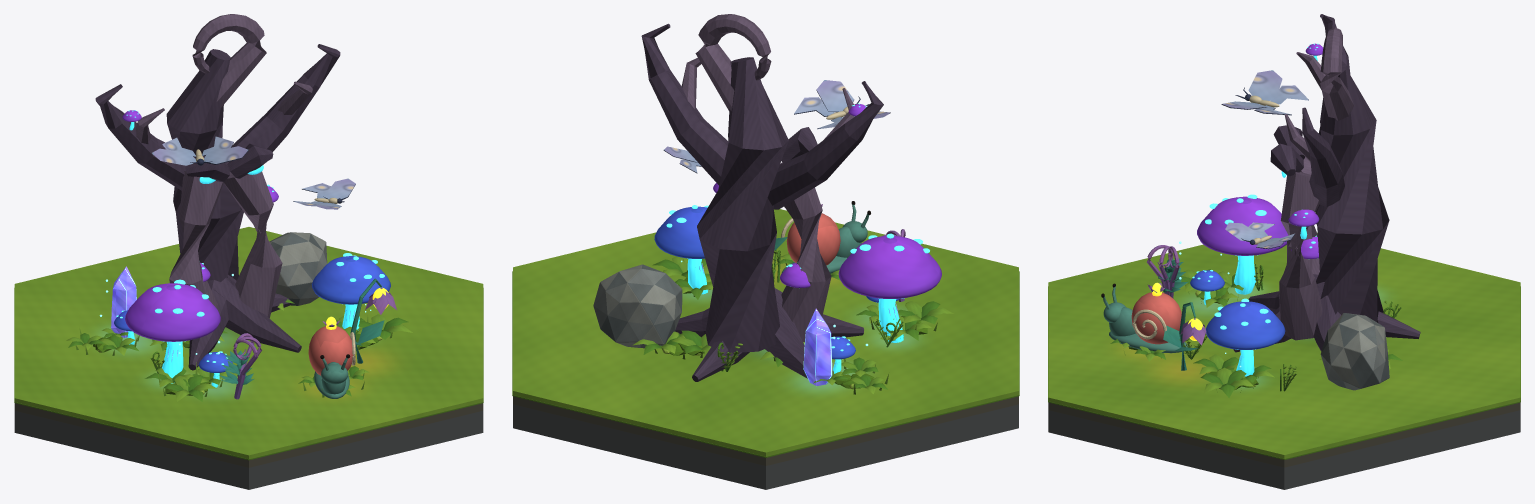
The model's file is hex_hollow_watchers.glb.
3 views of the same model, side by side, from view 1: azimuth 30°, elevation 25°; view 2: azimuth 150°, elevation 25°; view 3: azimuth 270°, elevation 25° (orthographic). The views are drawn at different scales.
Visible parts, largest first — view 1: Standard hex meadow top.001, Standard hex stone foundation.001, Hollow watcher rear trunk.001, Hollow watcher cheek timber.003, Broad faceted mushroom cap.007, Standard hex earth layer.001, Hollow watcher cheek timber.002, Angular mossy forest boulder.001, Watcher spiral crown.001, Crooked reaching bough.003, Broad faceted mushroom cap.009, Crooked reaching bough.002 (+10 smaller); view 2: Standard hex meadow top.001, Hollow watcher rear trunk.001, Standard hex stone foundation.001, Angular mossy forest boulder.001, Broad faceted mushroom cap.007, Standard hex earth layer.001, Crooked reaching bough.003, Crooked reaching bough.002, Hollow watcher cheek timber.002, Watcher spiral crown.001, Broad faceted mushroom cap.009, Faceted magical crystal.002 (+9 smaller); view 3: Standard hex meadow top.001, Hollow watcher rear trunk.001, Standard hex stone foundation.001, Hollow watcher cheek timber.003, Angular mossy forest boulder.001, Standard hex earth layer.001, Broad faceted mushroom cap.007, Broad faceted mushroom cap.009, Crooked reaching bough.003, Watcher spiral crown.001, Coral lantern shell.001, Raised wooden brow.003 (+8 smaller).
Part boxes in pixels (left/top/right/bottom): Standard hex meadow top.001: left=14, top=227, right=483, bottom=458; Standard hex stone foundation.001: left=14, top=411, right=483, bottom=489; Hollow watcher rear trunk.001: left=166, top=49, right=243, bottom=281; Hollow watcher cheek timber.003: left=223, top=171, right=282, bottom=318; Broad faceted mushroom cap.007: left=125, top=283, right=220, bottom=341; Standard hex earth layer.001: left=14, top=403, right=483, bottom=467; Hollow watcher cheek timber.002: left=169, top=171, right=223, bottom=307; Angular mossy forest boulder.001: left=269, top=232, right=327, bottom=305; Watcher spiral crown.001: left=192, top=14, right=266, bottom=107; Crooked reaching bough.003: left=224, top=44, right=340, bottom=171; Broad faceted mushroom cap.009: left=311, top=256, right=390, bottom=304; Crooked reaching bough.002: left=95, top=84, right=195, bottom=190; Standard hex meadow top.001: left=513, top=209, right=1018, bottom=456; Hollow watcher rear trunk.001: left=697, top=57, right=788, bottom=352; Standard hex stone foundation.001: left=513, top=404, right=1018, bottom=489; Angular mossy forest boulder.001: left=593, top=264, right=682, bottom=348; Broad faceted mushroom cap.007: left=838, top=236, right=941, bottom=298; Standard hex earth layer.001: left=513, top=396, right=1018, bottom=465; Crooked reaching bough.003: left=641, top=23, right=728, bottom=185; Crooked reaching bough.002: left=767, top=81, right=883, bottom=209; Hollow watcher cheek timber.002: left=780, top=162, right=831, bottom=342; Watcher spiral crown.001: left=695, top=14, right=771, bottom=110; Broad faceted mushroom cap.009: left=654, top=206, right=707, bottom=258; Faceted magical crystal.002: left=803, top=308, right=832, bottom=385; Standard hex meadow top.001: left=1048, top=232, right=1520, bottom=458; Hollow watcher rear trunk.001: left=1315, top=61, right=1389, bottom=322; Standard hex stone foundation.001: left=1048, top=410, right=1520, bottom=489; Hollow watcher cheek timber.003: left=1279, top=172, right=1322, bottom=340; Angular mossy forest boulder.001: left=1320, top=313, right=1389, bottom=390; Standard hex earth layer.001: left=1048, top=402, right=1520, bottom=467; Broad faceted mushroom cap.007: left=1197, top=196, right=1288, bottom=255; Broad faceted mushroom cap.009: left=1206, top=301, right=1285, bottom=349; Crooked reaching bough.003: left=1302, top=107, right=1344, bottom=206; Watcher spiral crown.001: left=1320, top=27, right=1353, bottom=120; Coral lantern shell.001: left=1131, top=292, right=1181, bottom=344; Raised wooden brow.003: left=1270, top=143, right=1303, bottom=176.
Size of the model in its own units: 5.11 by 3.56 by 4.42.
51 materials, 41 textured.
